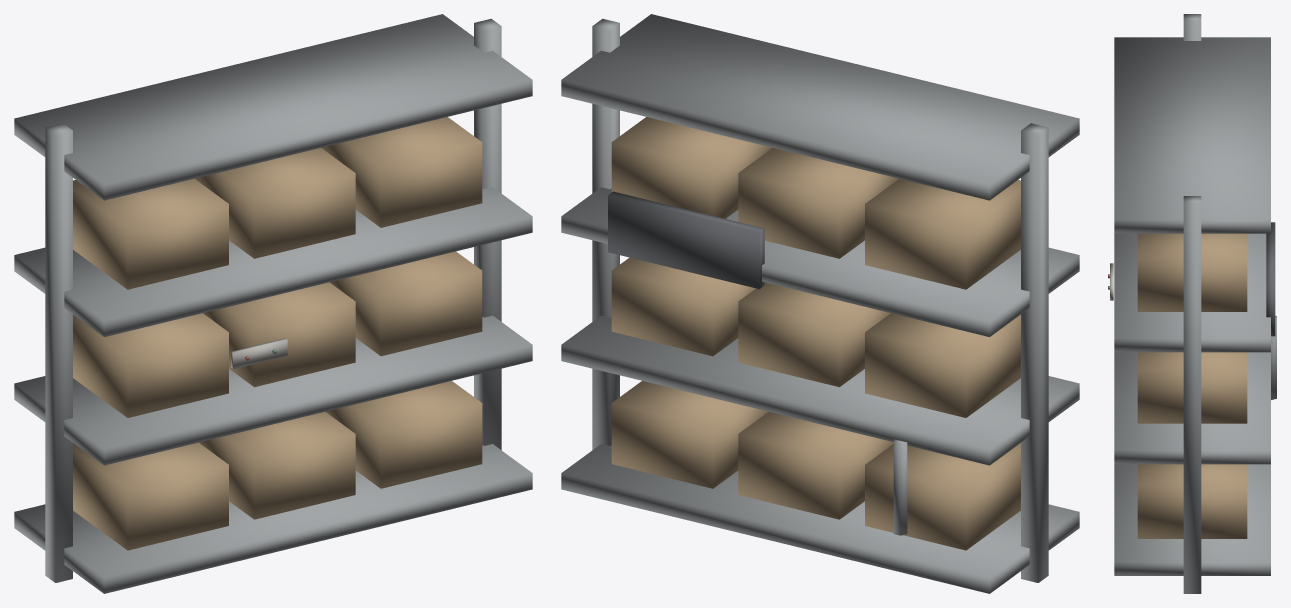
File: warehouse_pallet_rack__service.glb
The picture shows the model from 3 angles, left to right: view 1: azimuth 30°, elevation 25°; view 2: azimuth 150°, elevation 25°; view 3: azimuth 270°, elevation 25°; orthographic projection. The views are drawn at different scales.
Visible parts, largest first — view 1: world; view 2: world; view 3: world.
Part boxes in pixels (x1,y1,x2,y2): world: (14,14,532,593); world: (561,14,1079,593); world: (1108,14,1276,593).
Size of the model in its own units: 2.29 by 2.2 by 0.8613.
